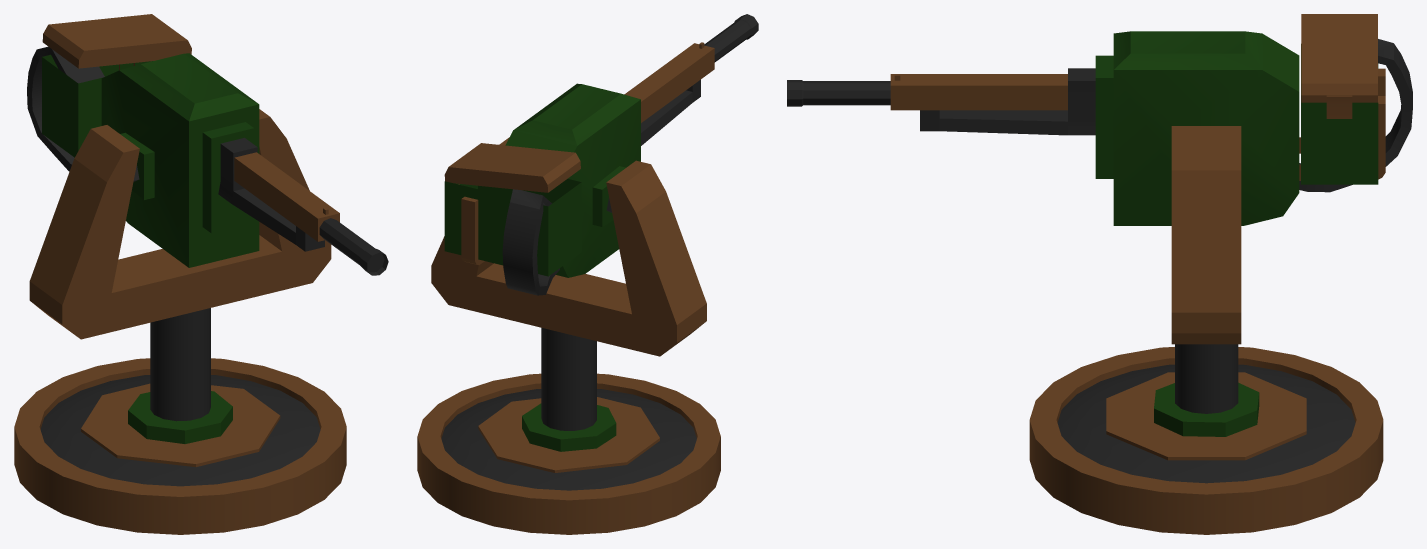
Rendered from Turret.fbx.
3 renders of one model, left to right at view 1: azimuth 30°, elevation 25°; view 2: azimuth 150°, elevation 25°; view 3: azimuth 270°, elevation 25°, orthographic. The views are drawn at different scales.
Visible parts, largest first — view 1: obj_turret; view 2: obj_turret; view 3: obj_turret.
Boxes of the visible parts, bbox=[...] form: obj_turret: bbox=[14, 14, 388, 534]; obj_turret: bbox=[417, 14, 758, 534]; obj_turret: bbox=[787, 14, 1412, 534].
Size of the model in its own units: 514 by 672 by 910.
